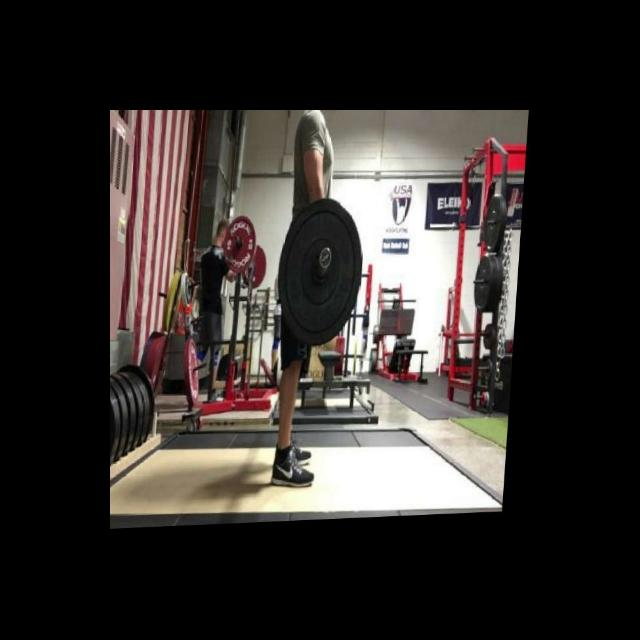barbell: (275, 195, 369, 352)
